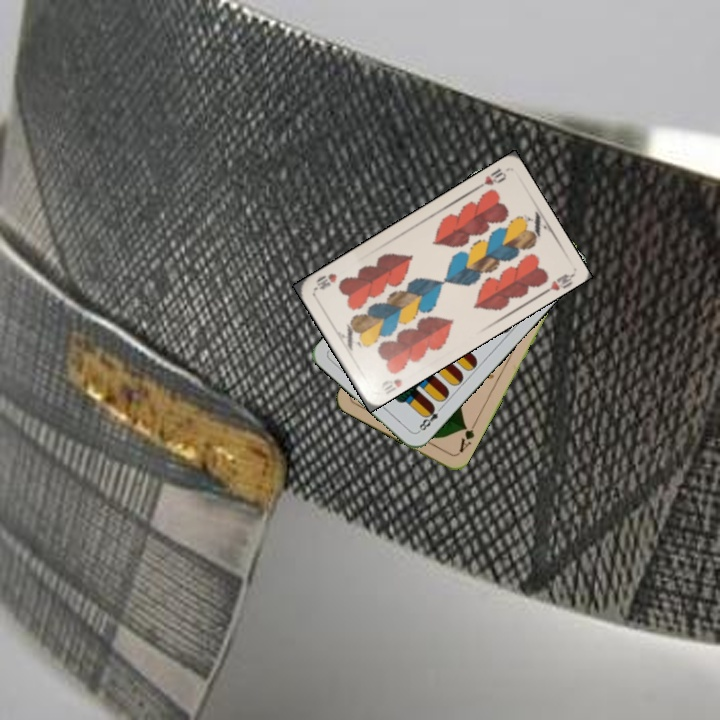E8: (414, 402, 445, 435)
GA: (453, 419, 478, 457)
H10: (472, 164, 509, 192), (376, 374, 405, 394)
